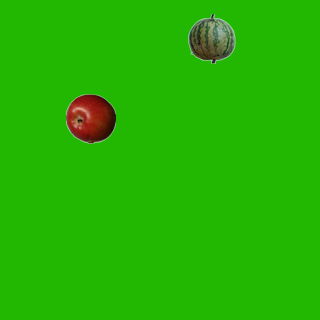Apple Braeburn: (65, 93, 115, 143)
Watermelon: (186, 13, 236, 63)
